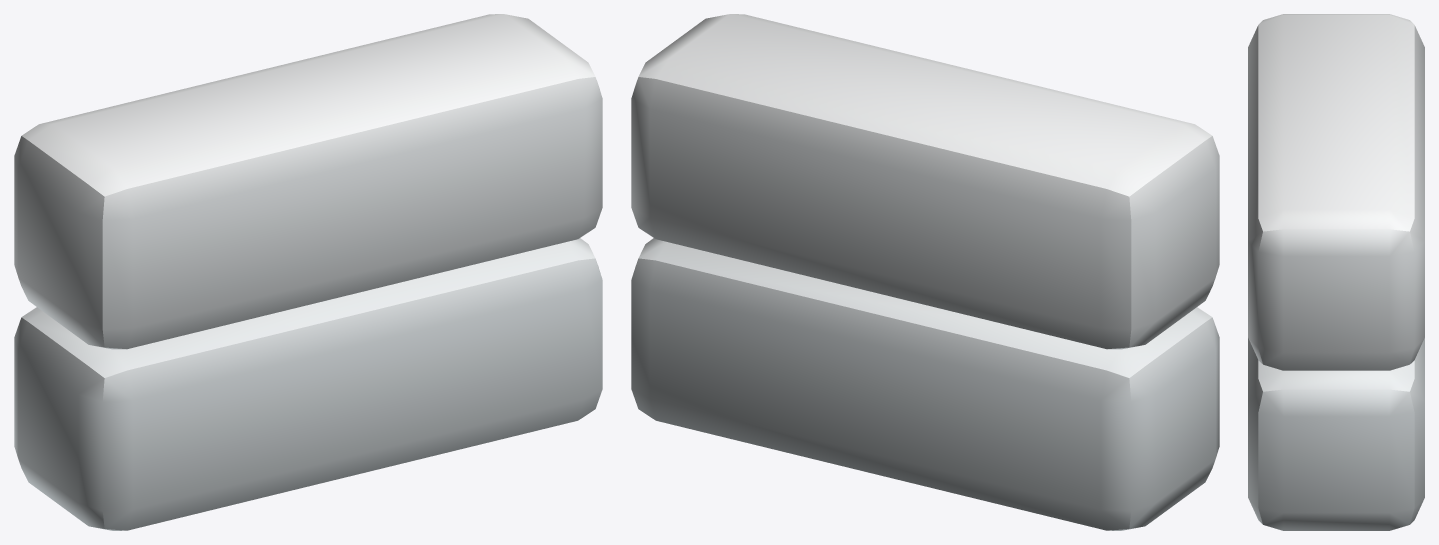
File: kaykit_barrier_3x1x2.glb
The picture shows the model from 3 angles, left to right: view 1: azimuth 30°, elevation 25°; view 2: azimuth 150°, elevation 25°; view 3: azimuth 270°, elevation 25°; orthographic projection. The views are drawn at different scales.
Visible parts, largest first — view 1: barrier_3x1x2_visual; view 2: barrier_3x1x2_visual; view 3: barrier_3x1x2_visual.
Part boxes in pixels (x1=…): barrier_3x1x2_visual: x1=14, y1=14, x2=602, y2=530; barrier_3x1x2_visual: x1=631, y1=14, x2=1219, y2=530; barrier_3x1x2_visual: x1=1248, y1=14, x2=1424, y2=530.
Size of what is drawn, in the model's own units: 3 by 2 by 1.
Materials: 1 (1 with a texture image).
